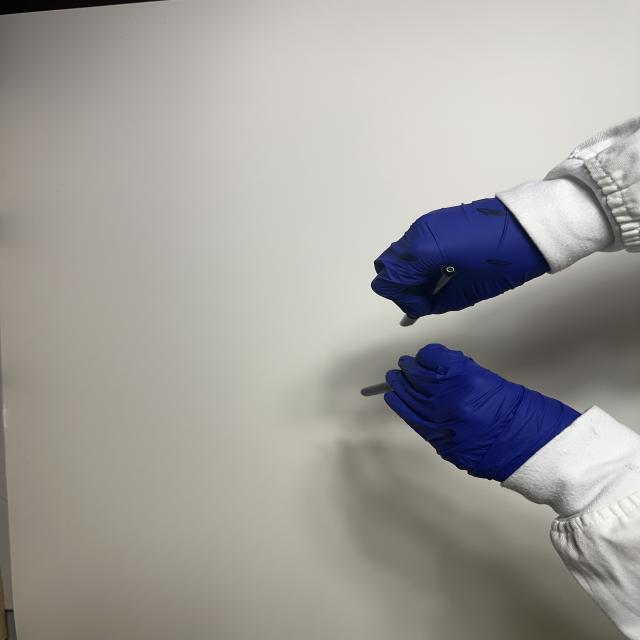gloves_contaminated: (385, 344, 580, 482), (371, 198, 550, 317)
